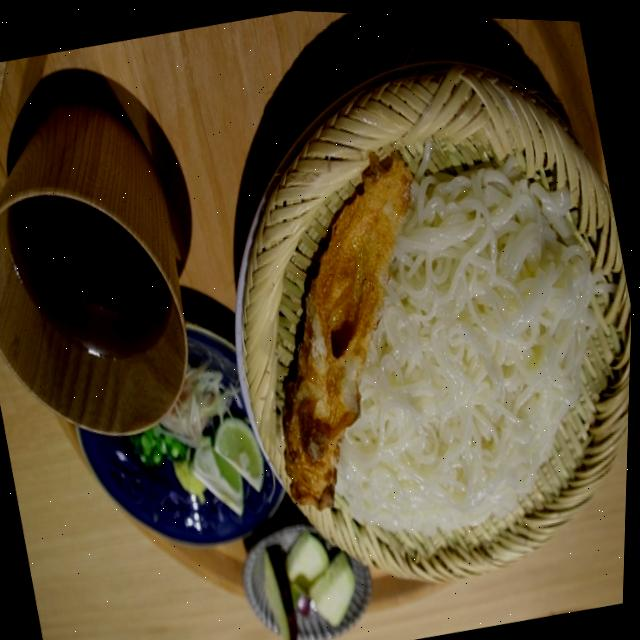面条主食: (182, 26, 640, 614)
